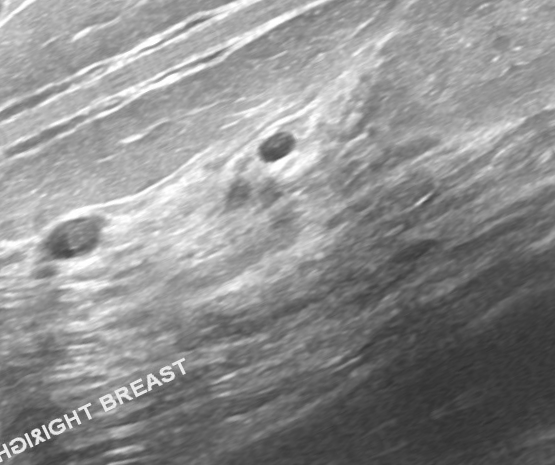Benign: (44, 211, 105, 268)
